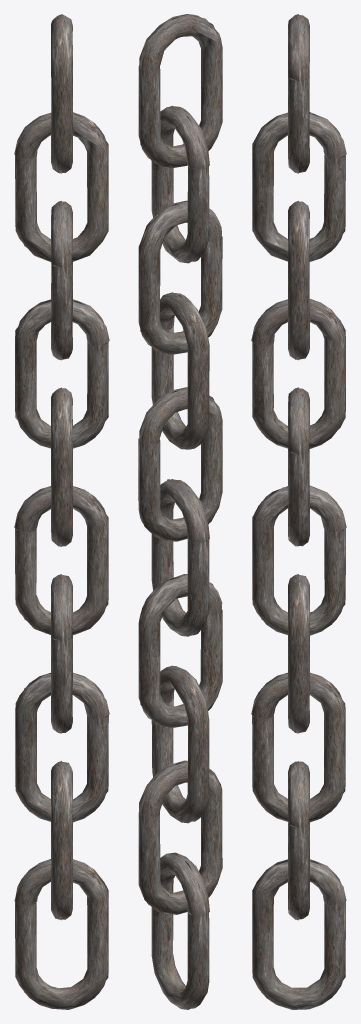
File: chain_iron.glb
3 renders of one model, left to right at view 1: azimuth 90°, elevation 25°; view 2: azimuth 210°, elevation 25°; view 3: azimuth 270°, elevation 25°, orthographic.
Visible parts, largest first — view 1: Sweep_9_Mat_0, Sweep_1_Mat_0, Sweep_7_Mat_0, Sweep_5_Mat_0, Sweep_3_Mat_0, Sweep_4_Mat_0, Sweep_8_Mat_0, Sweep_2_Mat_0, Sweep_6_Mat_0, Sweep_0_Mat_0; view 2: Sweep_0_Mat_0, Sweep_6_Mat_0, Sweep_4_Mat_0, Sweep_8_Mat_0, Sweep_2_Mat_0, Sweep_9_Mat_0, Sweep_3_Mat_0, Sweep_5_Mat_0, Sweep_1_Mat_0, Sweep_7_Mat_0; view 3: Sweep_9_Mat_0, Sweep_1_Mat_0, Sweep_3_Mat_0, Sweep_5_Mat_0, Sweep_7_Mat_0, Sweep_2_Mat_0, Sweep_6_Mat_0, Sweep_0_Mat_0, Sweep_8_Mat_0, Sweep_4_Mat_0.
Boxes of the visible parts, <box> form: Sweep_9_Mat_0: <box>14,859,108,1009</box>; Sweep_1_Mat_0: <box>14,112,108,261</box>; Sweep_7_Mat_0: <box>15,672,109,822</box>; Sweep_5_Mat_0: <box>14,486,108,635</box>; Sweep_3_Mat_0: <box>15,299,109,448</box>; Sweep_4_Mat_0: <box>51,387,72,546</box>; Sweep_8_Mat_0: <box>51,761,72,920</box>; Sweep_2_Mat_0: <box>51,201,72,360</box>; Sweep_6_Mat_0: <box>51,574,72,733</box>; Sweep_0_Mat_0: <box>51,14,72,173</box>; Sweep_0_Mat_0: <box>138,14,222,168</box>; Sweep_6_Mat_0: <box>138,574,222,727</box>; Sweep_4_Mat_0: <box>138,387,222,541</box>; Sweep_8_Mat_0: <box>138,760,222,914</box>; Sweep_2_Mat_0: <box>138,200,222,354</box>; Sweep_9_Mat_0: <box>151,852,209,1009</box>; Sweep_3_Mat_0: <box>151,292,209,449</box>; Sweep_5_Mat_0: <box>151,479,209,636</box>; Sweep_1_Mat_0: <box>151,105,209,263</box>; Sweep_7_Mat_0: <box>151,665,209,823</box>; Sweep_9_Mat_0: <box>252,859,346,1009</box>; Sweep_1_Mat_0: <box>252,112,346,261</box>; Sweep_3_Mat_0: <box>251,299,345,448</box>; Sweep_5_Mat_0: <box>252,485,346,635</box>; Sweep_7_Mat_0: <box>251,672,345,822</box>; Sweep_2_Mat_0: <box>288,201,309,360</box>; Sweep_6_Mat_0: <box>288,574,309,733</box>; Sweep_0_Mat_0: <box>288,14,309,173</box>; Sweep_8_Mat_0: <box>288,761,309,920</box>; Sweep_4_Mat_0: <box>288,387,309,546</box>.
Bounding box in the file's own units: 265 × 3033 × 265.
Materials: 1 (1 with a texture image).
